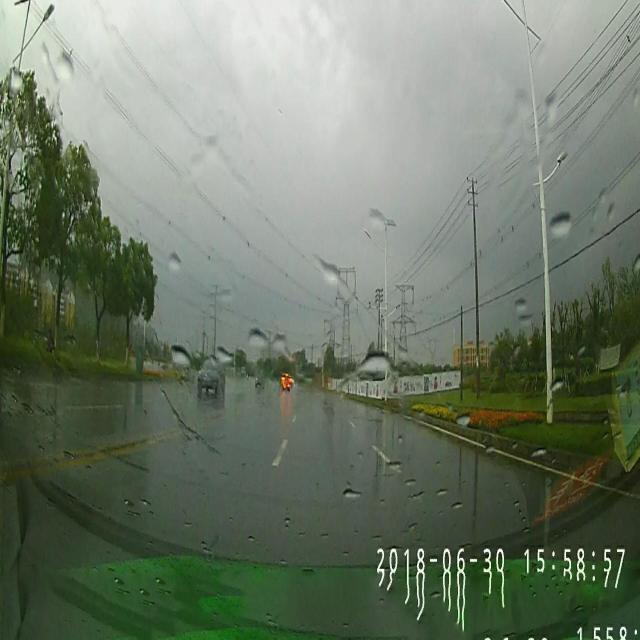car: (197, 358, 225, 398), (255, 366, 268, 386), (280, 374, 290, 389)
